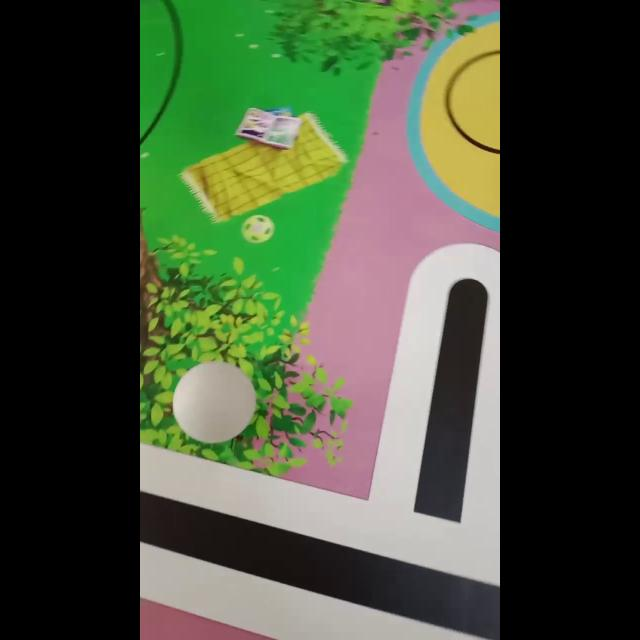white ball: (171, 360, 257, 444)
